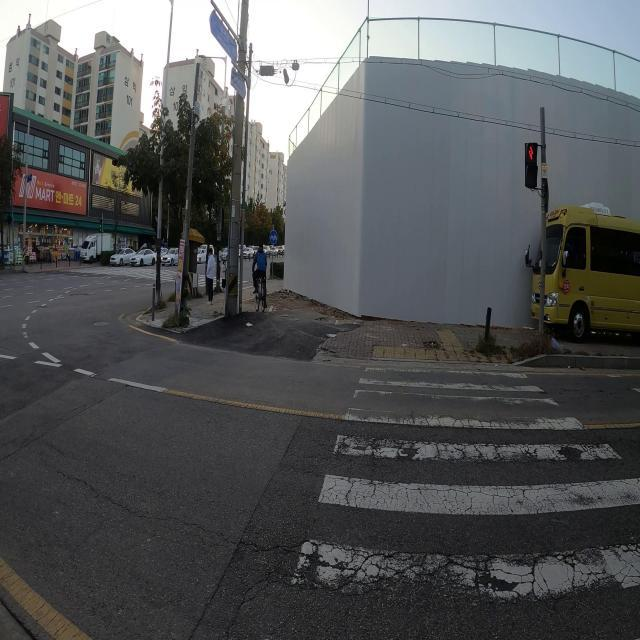crosswalk: (289, 366, 638, 603), (61, 265, 255, 292)
